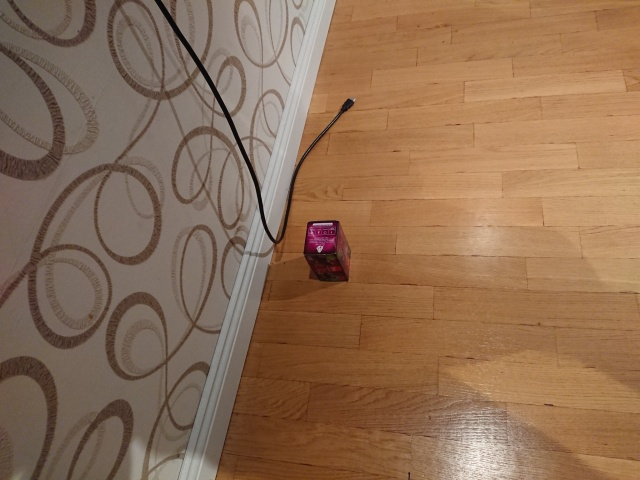Franck Black Currant Tea 60g: (301, 217, 353, 284)
